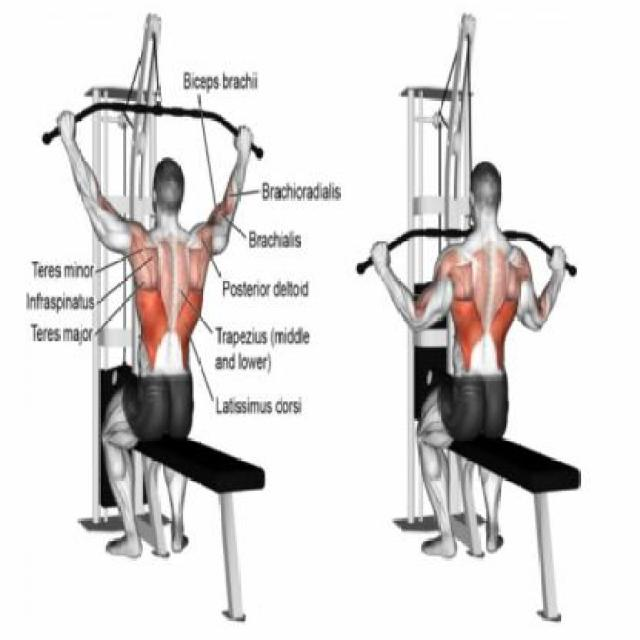Lat Pull Down: (29, 6, 334, 631), (349, 8, 614, 635)
